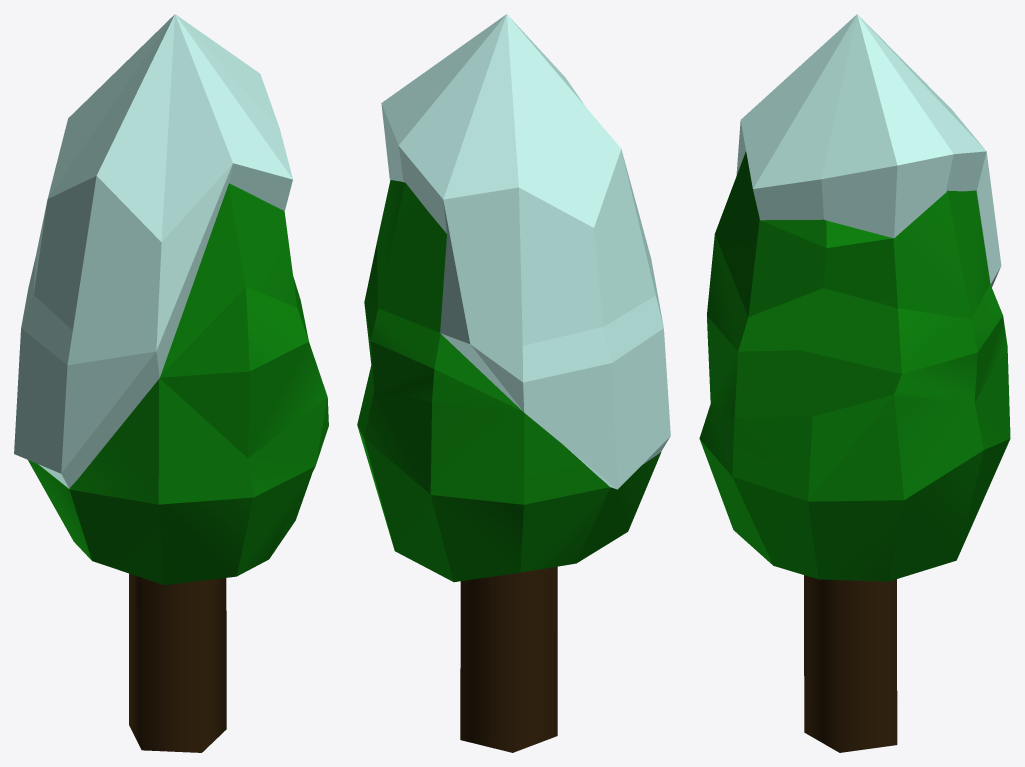
Rendered from Tree2.FBX.
The picture shows the model from 3 angles, left to right: view 1: azimuth 30°, elevation 25°; view 2: azimuth 150°, elevation 25°; view 3: azimuth 270°, elevation 25°; orthographic projection.
Visible parts, largest first — view 1: Tree2_C, Tree2_b, Tree2_a; view 2: Tree2_C, Tree2_b, Tree2_a; view 3: Tree2_b, Tree2_C, Tree2_a.
Boxes of the visible parts, <box> form: Tree2_C: <box>14,14,292,488</box>; Tree2_b: <box>28,183,328,584</box>; Tree2_a: <box>129,573,226,752</box>; Tree2_C: <box>381,14,670,489</box>; Tree2_b: <box>357,180,661,582</box>; Tree2_a: <box>460,566,557,752</box>; Tree2_b: <box>699,151,1010,581</box>; Tree2_C: <box>736,14,1001,287</box>; Tree2_a: <box>804,575,897,752</box>.
Bounding box in the file's own units: 2893 × 7413 × 2909.
